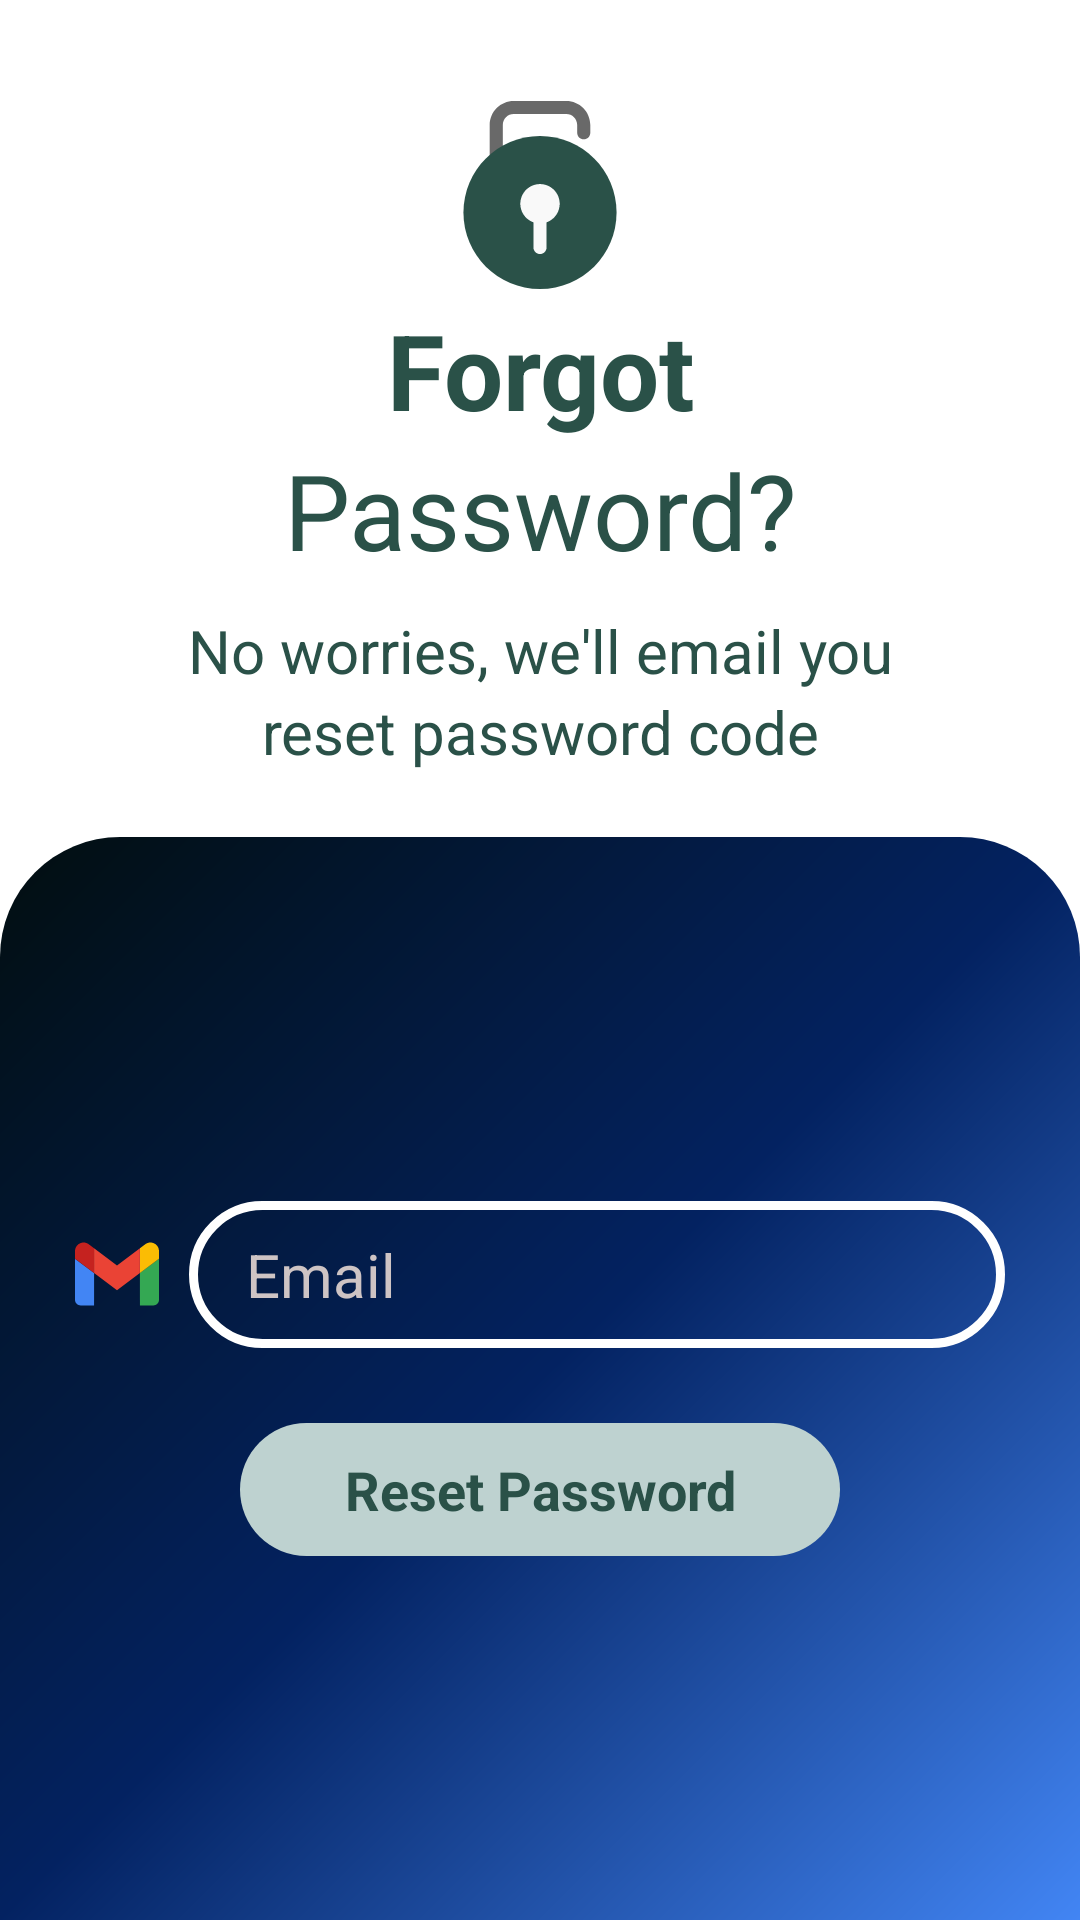

Icon click points for this 1080px×1920px phone screenshot, format (x,y):
lock: (540,195)
